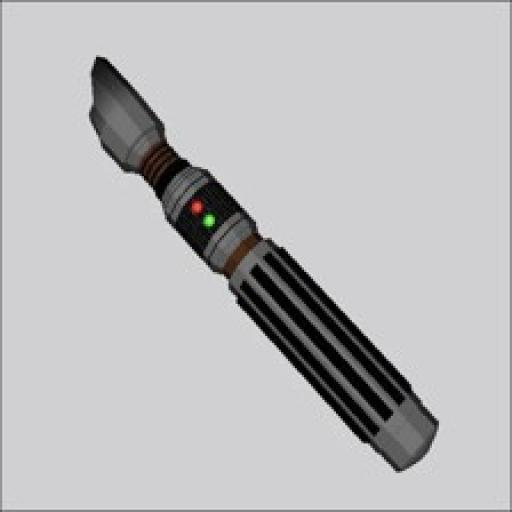lightsaber: (89, 54, 438, 473)
